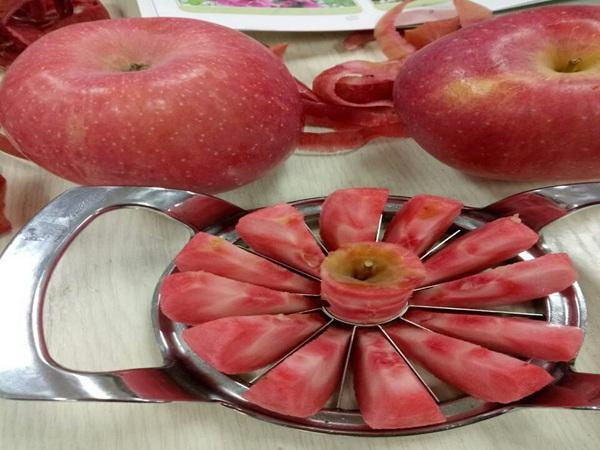apple: (161, 188, 583, 428), (1, 14, 304, 199), (395, 3, 600, 184)
